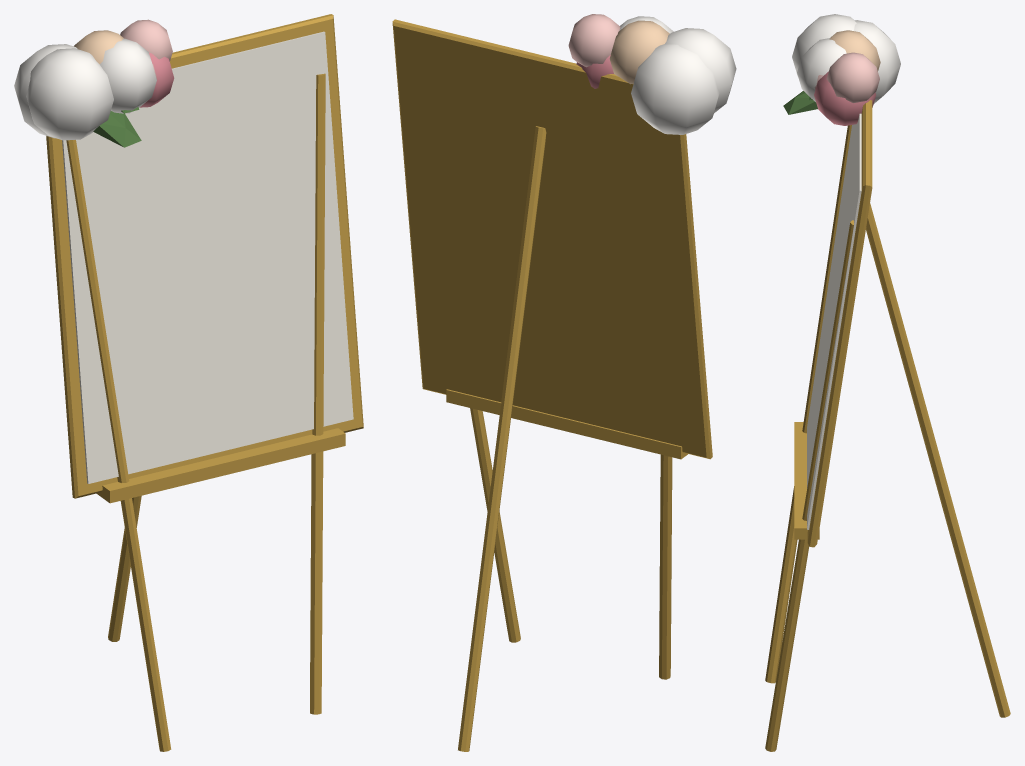
File: easel.glb
3 views of the same model, side by side, from view 1: azimuth 30°, elevation 25°; view 2: azimuth 150°, elevation 25°; view 3: azimuth 270°, elevation 25° (orthographic). The views are drawn at different scales.
Visible parts, largest first — view 1: ivory5, gold4, gold1, gold0, flowerWhite8, gold3, flowerWhite7, gold2, flowerBlush14, flowerWhite9, leaf12, flowerPeach11 (+1 smaller); view 2: gold4, gold2, flowerWhite9, gold3, gold0, gold1, flowerWhite8, flowerPeach11, flowerBlush14; view 3: gold2, ivory5, gold4, gold1, gold0, flowerBlush14, flowerWhite9, flowerWhite7, gold3, flowerRose16, flowerWhite8, flowerPeach11 (+1 smaller).
Boxes of the visible parts, x1=… form: ivory5: x1=62, y1=31, x2=353, y2=483; gold4: x1=46, y1=14, x2=363, y2=498; gold1: x1=310, y1=73, x2=325, y2=714; gold0: x1=66, y1=140, x2=171, y2=751; flowerWhite8: x1=26, y1=48, x2=113, y2=140; gold3: x1=96, y1=428, x2=345, y2=503; flowerWhite7: x1=100, y1=38, x2=156, y2=113; gold2: x1=108, y1=495, x2=141, y2=641; flowerBlush14: x1=120, y1=19, x2=172, y2=61; flowerWhite9: x1=14, y1=44, x2=77, y2=138; leaf12: x1=93, y1=111, x2=141, y2=147; flowerPeach11: x1=74, y1=30, x2=123, y2=64; gold4: x1=392, y1=19, x2=712, y2=459; gold2: x1=458, y1=126, x2=546, y2=751; flowerWhite9: x1=631, y1=44, x2=719, y2=134; gold3: x1=446, y1=389, x2=687, y2=459; gold0: x1=659, y1=454, x2=672, y2=679; gold1: x1=470, y1=408, x2=520, y2=642; flowerWhite8: x1=665, y1=28, x2=736, y2=113; flowerPeach11: x1=609, y1=20, x2=669, y2=84; flowerBlush14: x1=568, y1=14, x2=620, y2=67; gold2: x1=866, y1=203, x2=1010, y2=717; ivory5: x1=807, y1=113, x2=861, y2=529; gold4: x1=807, y1=100, x2=872, y2=547; gold1: x1=765, y1=220, x2=853, y2=751; gold0: x1=765, y1=125, x2=851, y2=683; flowerBlush14: x1=826, y1=52, x2=879, y2=102; flowerWhite9: x1=854, y1=20, x2=900, y2=103; flowerWhite7: x1=797, y1=38, x2=846, y2=101; gold3: x1=794, y1=422, x2=819, y2=539; flowerRose16: x1=814, y1=71, x2=876, y2=125; flowerWhite8: x1=792, y1=14, x2=856, y2=76; flowerPeach11: x1=829, y1=30, x2=880, y2=71.
Size of the model in its own units: 1.09 by 2.24 by 0.7803.
